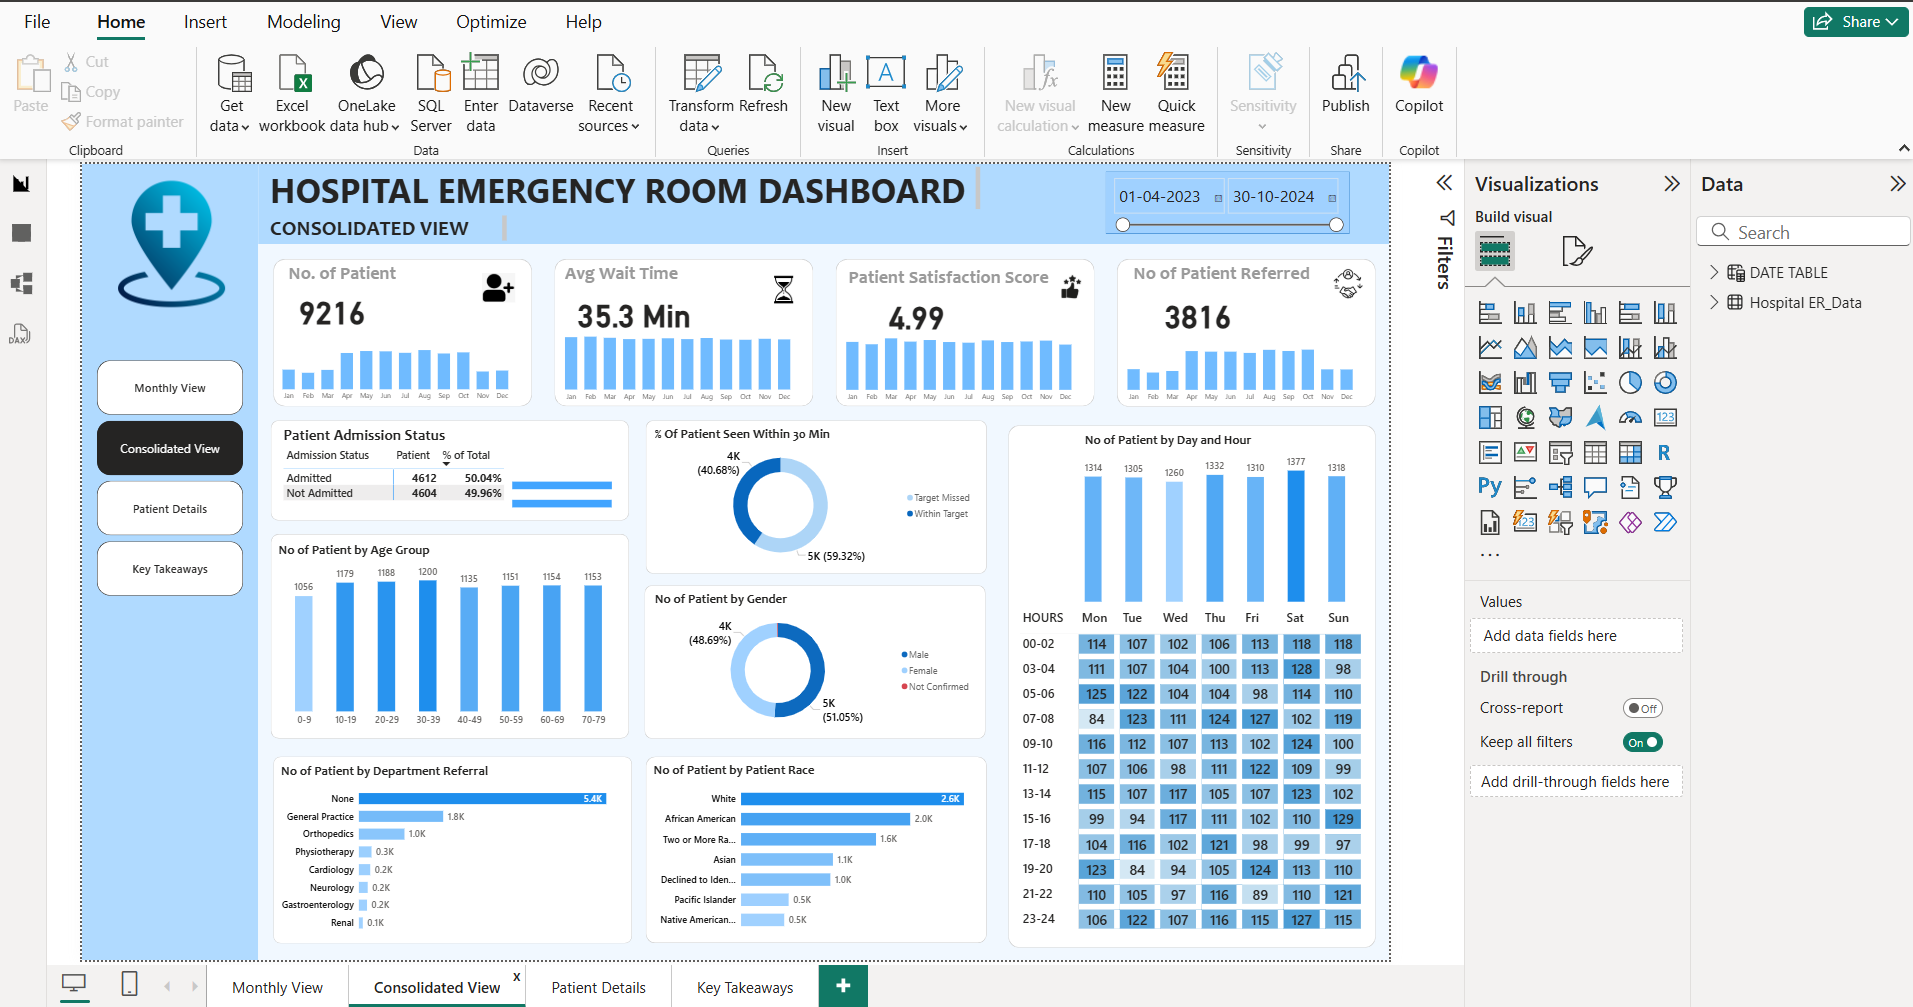

This screenshot's page, from the dashboard's own definition file:
{"tool":"powerbi","page":{"name":"Consolidated View","canvas":[2300,1400],"ordinal":1},"visuals":[{"type":"shape","box":[830.3,168.2,455,259.1],"z":0},{"type":"shape","box":[0,0,310,1400.4],"z":1000},{"type":"shape","box":[310,0,1989.6,140.7],"z":2000},{"type":"textbox","box":[325.4,0,1259.7,85.7],"z":3000},{"type":"textbox","box":[325.4,85.7,426.5,55],"z":4000},{"type":"card","fields":{"Values":["Hospital ER_Data.No of Patient"]},"box":[350,211.7,158.3,68.3],"z":5000},{"type":"slicer","fields":{"Values":["DATE TABLE.Date"]},"box":[1800.6,13.2,428.7,109.9],"z":6000},{"type":"textbox","box":[350,156.8,236.4,59.1],"z":8000},{"type":"areaChart","fields":{"Y":["Hospital ER_Data.No of Patient"],"Category":["DATE TABLE.Date.Variation.Date Hierarchy.Day"]},"box":[325,271.7,435,145],"z":9000},{"type":"shape","box":[335.4,166.1,455,259.4],"z":11000},{"type":"card","fields":{"Values":["Hospital ER_Data.No of Patient"]},"box":[360,221.7,158.3,68.3],"z":12000},{"type":"textbox","box":[359.1,168.2,236.4,59.1],"z":13000},{"type":"columnChart","fields":{"Y":["Hospital ER_Data.No of Patient"],"Category":["DATE TABLE.Month Name"]},"box":[335,281.7,435,145],"z":14000},{"type":"shape","box":[1325.1,168.2,455,259.1],"z":15000},{"type":"shape","box":[1820,167.5,455,260],"z":16000},{"type":"textbox","box":[843.2,168.2,236.4,59.1],"z":17000},{"type":"card","fields":{"Values":["Hospital ER_Data.Avg Wait Time"]},"box":[852.5,227.5,236.2,67.5],"z":18000},{"type":"columnChart","fields":{"Y":["Avg(Hospital ER_Data.Patient Waittime)"],"Category":["DATE TABLE.Month Name"]},"box":[831.8,281.8,434.1,145.5],"z":19000},{"type":"textbox","box":[1343.3,173.3,401.7,60],"z":20000},{"type":"textbox","box":[1844,168,408,60],"z":21000},{"type":"card","fields":{"Values":["Hospital ER_Data.Satisfaction Score"]},"box":[1350,230,236,68],"z":22000},{"type":"columnChart","fields":{"Y":["Hospital ER_Data.Satisfaction Score"],"Category":["DATE TABLE.Month Name"]},"box":[1326,282,434,146],"z":23000},{"type":"card","fields":{"Values":["Hospital ER_Data.No of Patient Referred"]},"box":[1844,228,236,68],"z":24000},{"type":"columnChart","fields":{"Category":["DATE TABLE.Month Name"],"Y":["Hospital ER_Data.No of Patient Referred"]},"box":[1820,282,434,146],"z":25000},{"type":"shape","box":[331.7,451.7,630,176.7],"z":26000},{"type":"pivotTable","title":"Patient Admission Status","fields":{"Rows":["Hospital ER_Data.Admission Status"],"Values":["Hospital ER_Data.No of Patient1","Hospital ER_Data.No of Patient"]},"box":[350,460,591.7,160],"z":27000},{"type":"barChart","fields":{"Category":["Hospital ER_Data.Admission Status"],"Y":["Hospital ER_Data.No of Patient"]},"box":[751,530,238,98],"z":28000},{"type":"shape","box":[331.7,651.7,630,360],"z":29000},{"type":"clusteredColumnChart","fields":{"Category":["Hospital ER_Data.Age Group"],"Y":["Hospital ER_Data.No of Patient"]},"box":[341.7,665,610,335],"z":30000},{"type":"shape","box":[335.6,1042.2,631.1,328.9],"z":31000},{"type":"clusteredBarChart","fields":{"Category":["Hospital ER_Data.Department Referral"],"Y":["Hospital ER_Data.No of Patient"]},"box":[346.2,1052.5,610,310],"z":32000},{"type":"shape","box":[991.7,451.7,600,270],"z":33000},{"type":"donutChart","title":"% Of Patient Seen Within 30 Min","fields":{"Category":["Hospital ER_Data.Wait Time Status"],"Y":["Hospital ER_Data.No of Patient"]},"box":[1003.3,460,573.3,253.3],"z":34000},{"type":"shape","box":[990,741.7,600,270],"z":35000},{"type":"donutChart","title":"No of Patient by Gender","fields":{"Y":["Hospital ER_Data.No of Patient"],"Category":["Hospital ER_Data.Patient Gender"]},"box":[1003.3,750,571.7,253.3],"z":36000},{"type":"shape","box":[991.7,1041.7,600,328.3],"z":37000},{"type":"clusteredBarChart","fields":{"Y":["Hospital ER_Data.No of Patient"],"Category":["Hospital ER_Data.Patient Race"]},"box":[1000,1051.7,585,310],"z":38000},{"type":"shape","box":[1629.1,459.5,646.4,919],"z":39000},{"type":"pivotTable","fields":{"Rows":["Hospital ER_Data.Wait Time Interval"],"Columns":["DATE TABLE.Day Name"],"Values":["Hospital ER_Data.No of Patient"]},"box":[1644.5,776.1,613.4,584.8],"z":40000},{"type":"columnChart","title":"No of Patient by Day and Hour","fields":{"Category":["DATE TABLE.Day Name"],"Y":["Hospital ER_Data.No of Patient"]},"box":[1758.8,470.5,470.5,305.6],"z":41000},{"type":"image","box":[39.6,24.2,235.2,233],"z":42000},{"type":"image","box":[694.2,186.7,75.8,61.7],"z":43000},{"type":"image","box":[1201.7,186.7,63.3,68.3],"z":44000},{"type":"image","box":[1701.7,176.7,76.7,80],"z":45000},{"type":"image","box":[2190,176,75,70],"z":46000},{"type":"pageNavigator","box":[26.4,345.2,257.2,415.5],"z":46001}]}

Visuals, with their boxes on the page's 2300x1400 design canvas (x1, y1, x2, y2). These are canvas units, not pixel positions in the 1913x1007 screenshot, which may show the page scaled, cropped or inside an application window:
shape: (830,168,1285,427)
shape: (0,0,310,1400)
shape: (310,0,2300,141)
textbox: (325,0,1585,86)
textbox: (325,86,752,141)
card - Hospital ER_Data.No of Patient: (350,212,508,280)
slicer - DATE TABLE.Date: (1801,13,2229,123)
textbox: (350,157,586,216)
areaChart - Hospital ER_Data.No of Patient x DATE TABLE.Date.Variation.Date Hierarchy.Day: (325,272,760,417)
shape: (335,166,790,426)
card - Hospital ER_Data.No of Patient: (360,222,518,290)
textbox: (359,168,596,227)
columnChart - Hospital ER_Data.No of Patient x DATE TABLE.Month Name: (335,282,770,427)
shape: (1325,168,1780,427)
shape: (1820,168,2275,428)
textbox: (843,168,1080,227)
card - Hospital ER_Data.Avg Wait Time: (852,228,1089,295)
columnChart - Avg(Hospital ER_Data.Patient Waittime) x DATE TABLE.Month Name: (832,282,1266,427)
textbox: (1343,173,1745,233)
textbox: (1844,168,2252,228)
card - Hospital ER_Data.Satisfaction Score: (1350,230,1586,298)
columnChart - Hospital ER_Data.Satisfaction Score x DATE TABLE.Month Name: (1326,282,1760,428)
card - Hospital ER_Data.No of Patient Referred: (1844,228,2080,296)
columnChart - DATE TABLE.Month Name x Hospital ER_Data.No of Patient Referred: (1820,282,2254,428)
shape: (332,452,962,628)
"Patient Admission Status" pivotTable: (350,460,942,620)
barChart - Hospital ER_Data.Admission Status x Hospital ER_Data.No of Patient: (751,530,989,628)
shape: (332,652,962,1012)
clusteredColumnChart - Hospital ER_Data.Age Group x Hospital ER_Data.No of Patient: (342,665,952,1000)
shape: (336,1042,967,1371)
clusteredBarChart - Hospital ER_Data.Department Referral x Hospital ER_Data.No of Patient: (346,1052,956,1362)
shape: (992,452,1592,722)
"% Of Patient Seen Within 30 Min" donutChart: (1003,460,1577,713)
shape: (990,742,1590,1012)
"No of Patient by Gender" donutChart: (1003,750,1575,1003)
shape: (992,1042,1592,1370)
clusteredBarChart - Hospital ER_Data.No of Patient x Hospital ER_Data.Patient Race: (1000,1052,1585,1362)
shape: (1629,460,2276,1378)
pivotTable - Hospital ER_Data.Wait Time Interval x DATE TABLE.Day Name: (1644,776,2258,1361)
"No of Patient by Day and Hour" columnChart: (1759,470,2229,776)
image: (40,24,275,257)
image: (694,187,770,248)
image: (1202,187,1265,255)
image: (1702,177,1778,257)
image: (2190,176,2265,246)
pageNavigator: (26,345,284,761)
